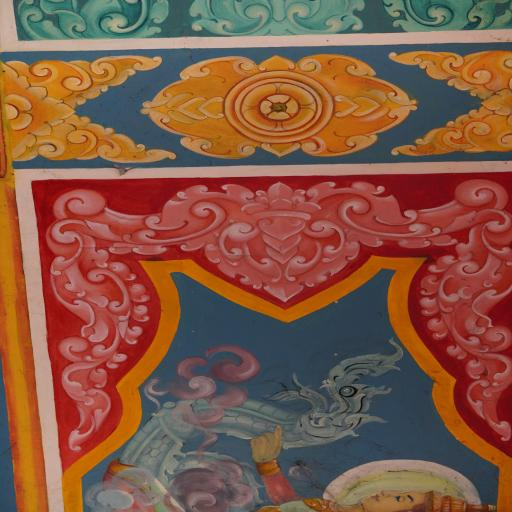hoa: (139, 47, 418, 164), (0, 60, 74, 158), (482, 90, 512, 114)
la: (123, 186, 466, 303), (41, 188, 143, 461), (412, 182, 512, 444), (30, 117, 180, 166), (10, 0, 182, 42), (184, 0, 377, 37), (386, 45, 512, 99), (38, 53, 162, 107), (396, 106, 512, 156), (375, 0, 512, 32)
than: (216, 422, 496, 512)
